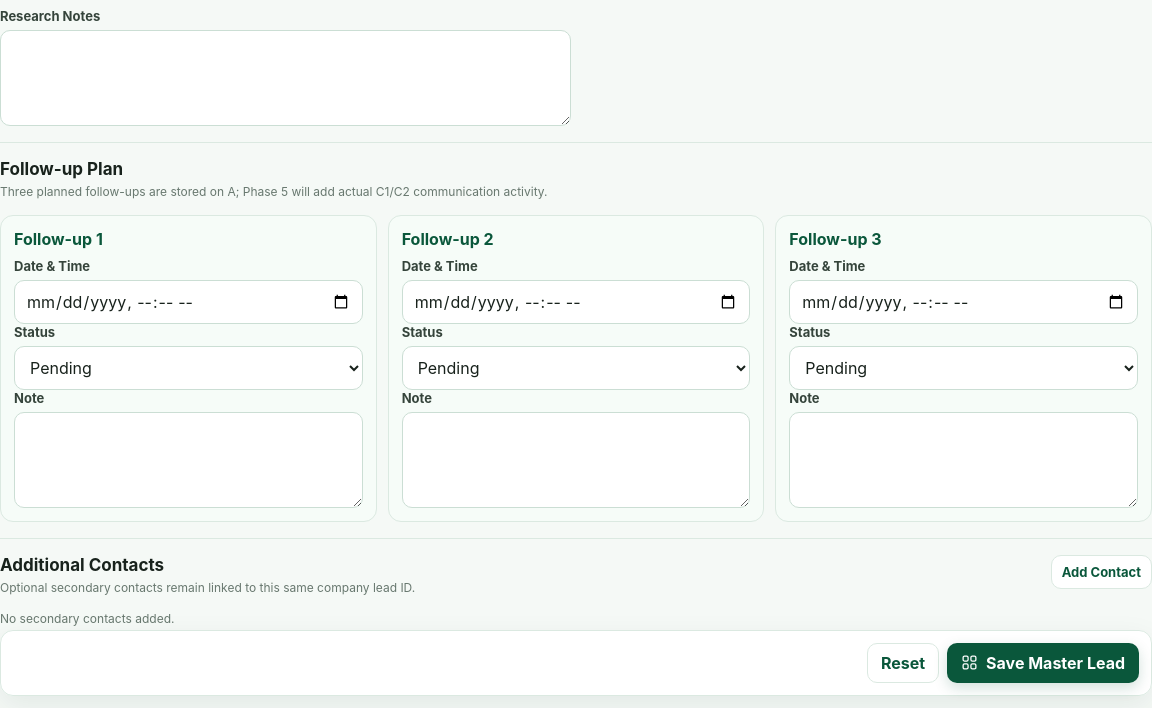
LeadForm › renders the permanent lead fields and supports adding a secondary contact
(page scrolled)
What coordinates should you click on to do the following:
click the button "Add Contact"
I would click on:
 (1101, 572)
Its box is [1051,555,1151,589].
(page scrolled)
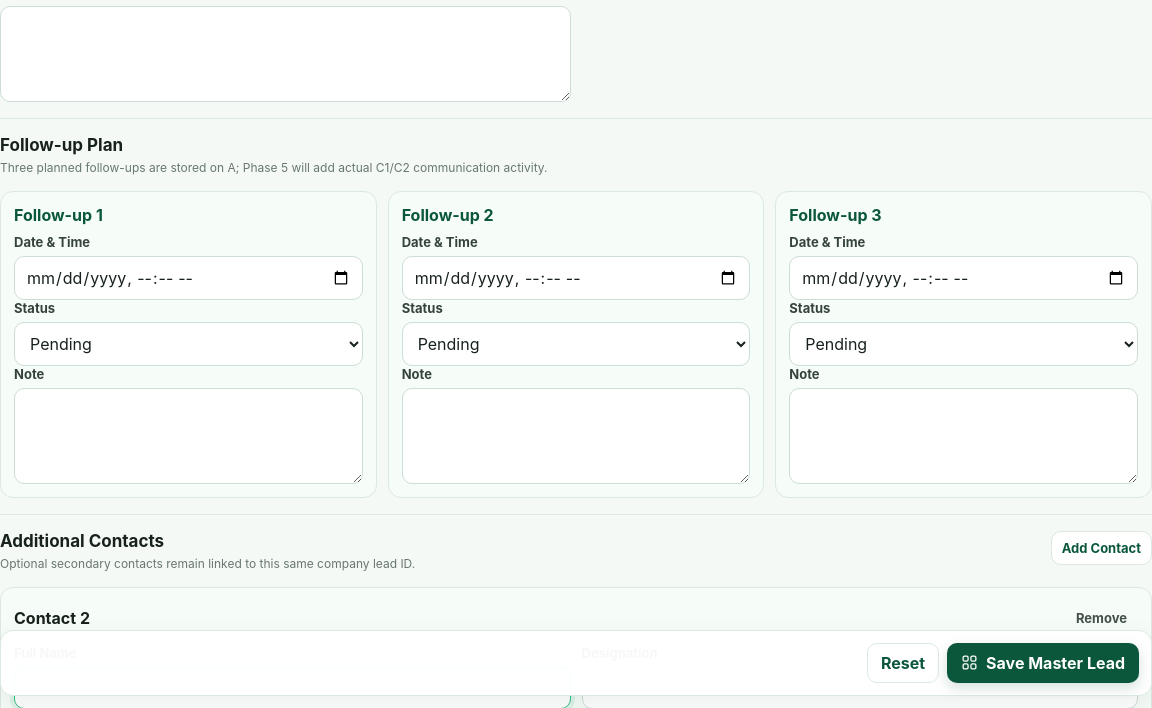
Check: the text "Contact 2" is shown, box [14,608,90,628]
